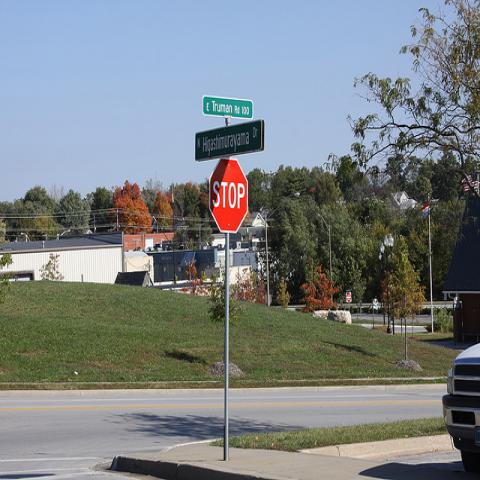truck: (442, 342, 479, 479)
